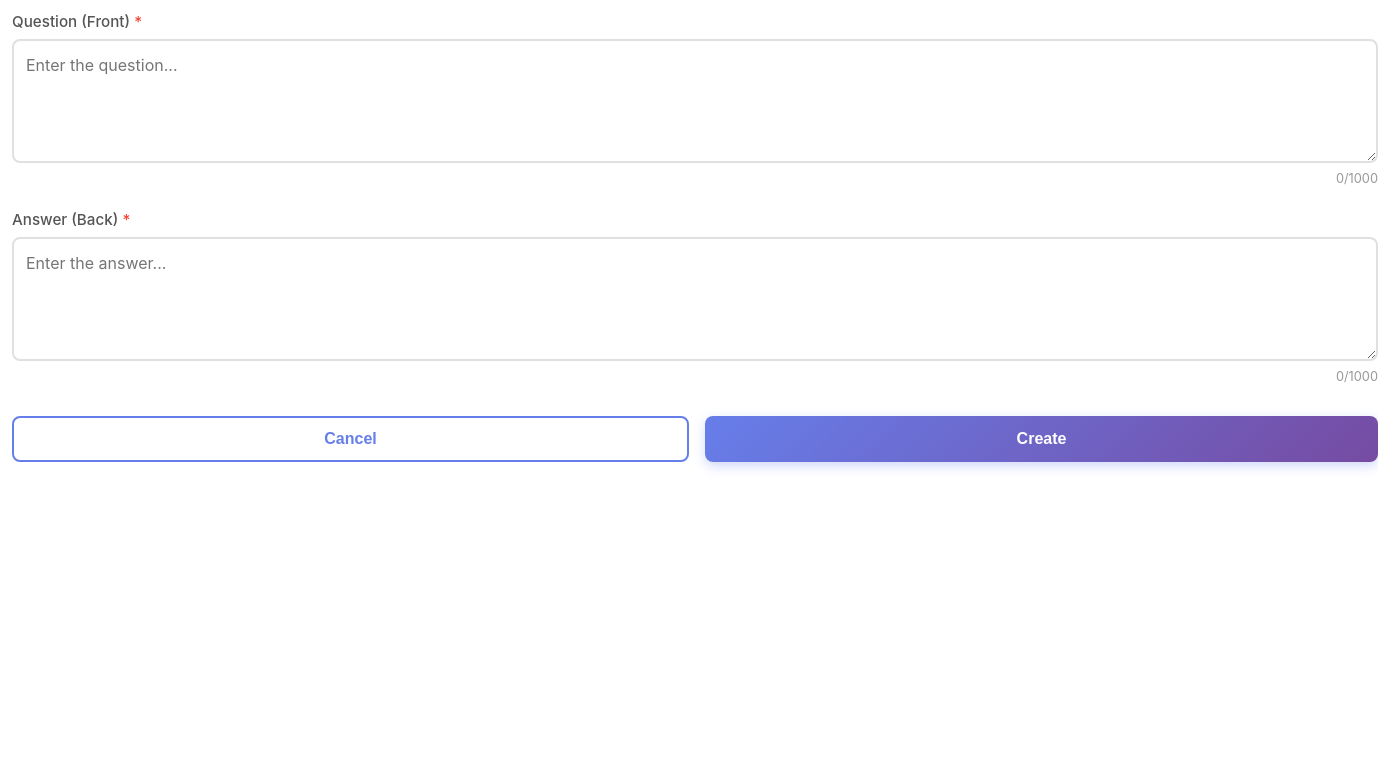
Test: FlashcardForm › Create Mode › shows error message when submission fails
Type "Test Question" into the text box with test id "front-input". click: coordinates (695, 101)
box: [12,39,1378,163]
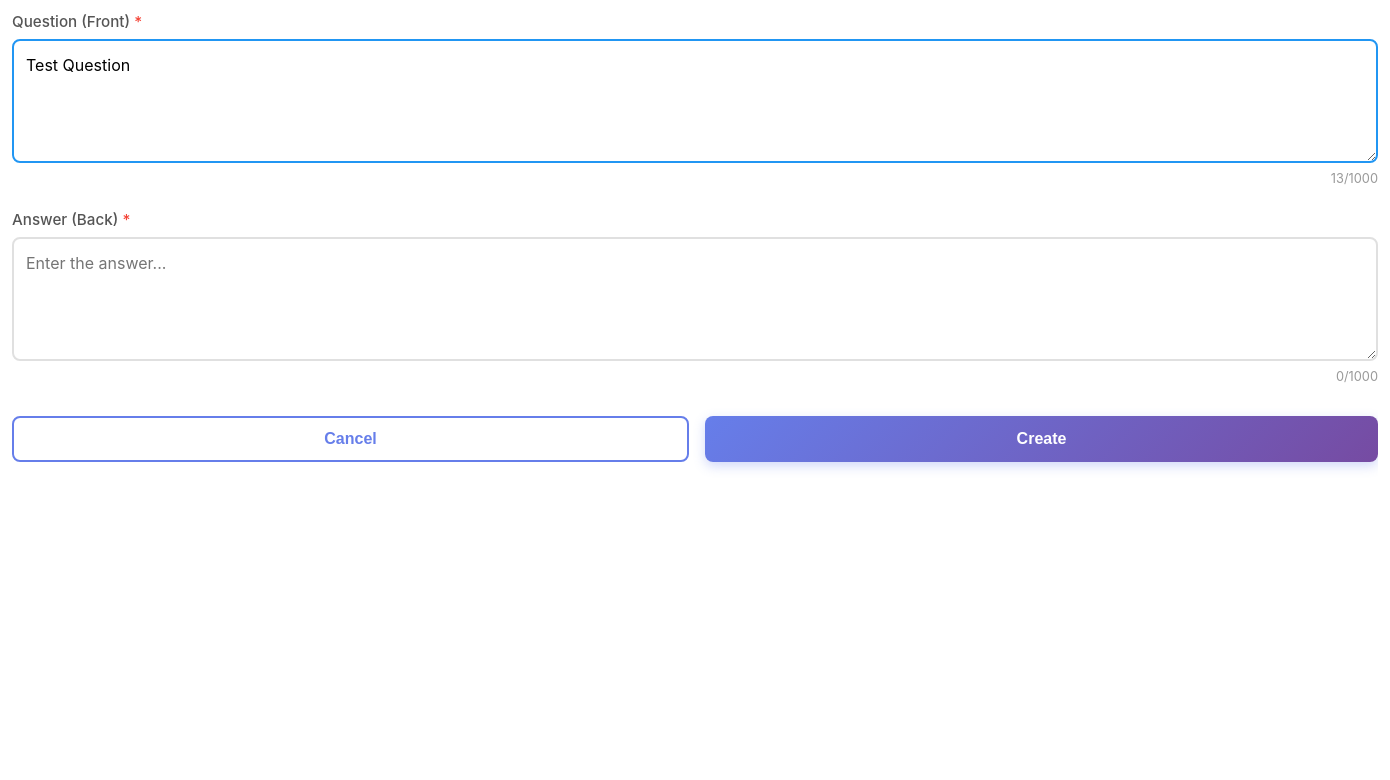
Type "Test Answer" into the text box with test id "back-input". click: coordinates (695, 299)
box: [12,237,1378,361]
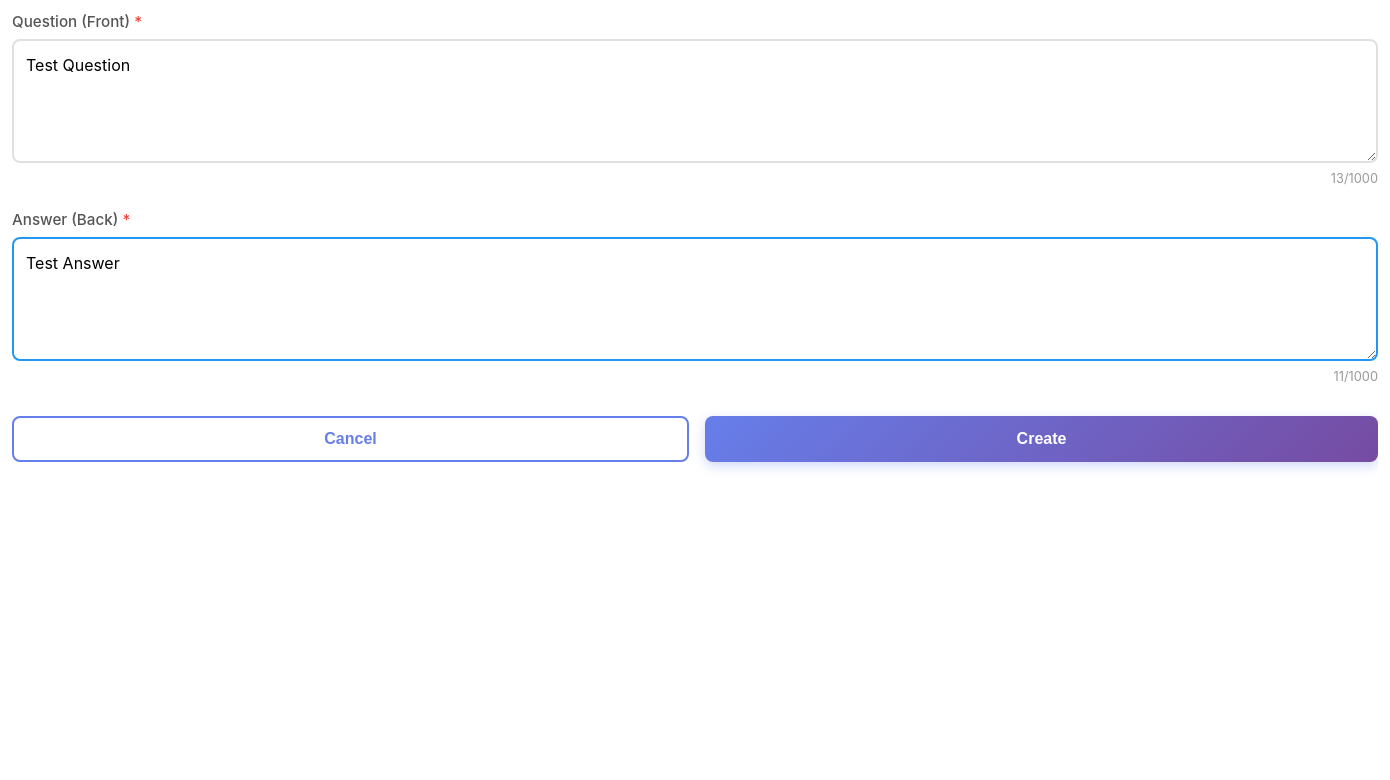
Click the button with test id "submit-button". click: coordinates (1042, 439)
box: [705,416,1378,462]
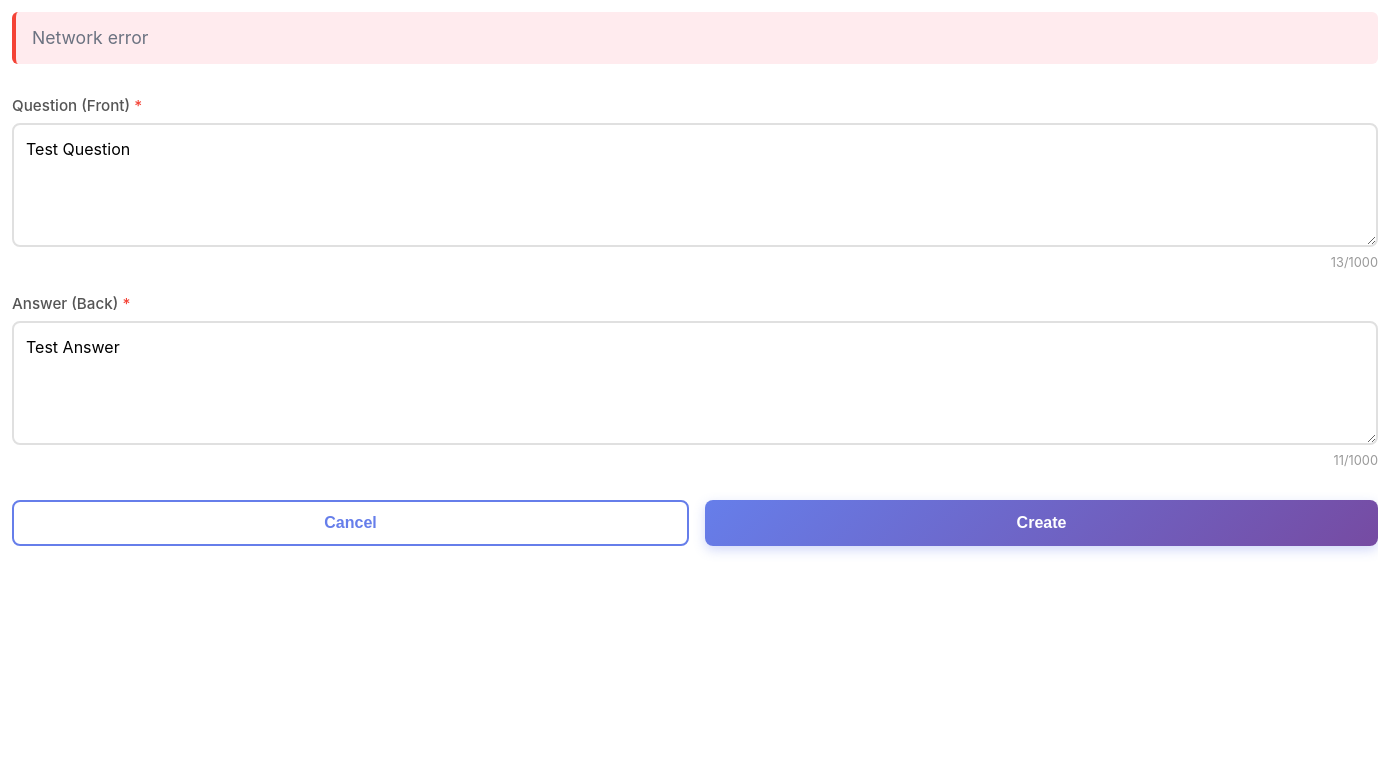
expect the text "Network error" is shown: met, box [12,12,1378,64]
